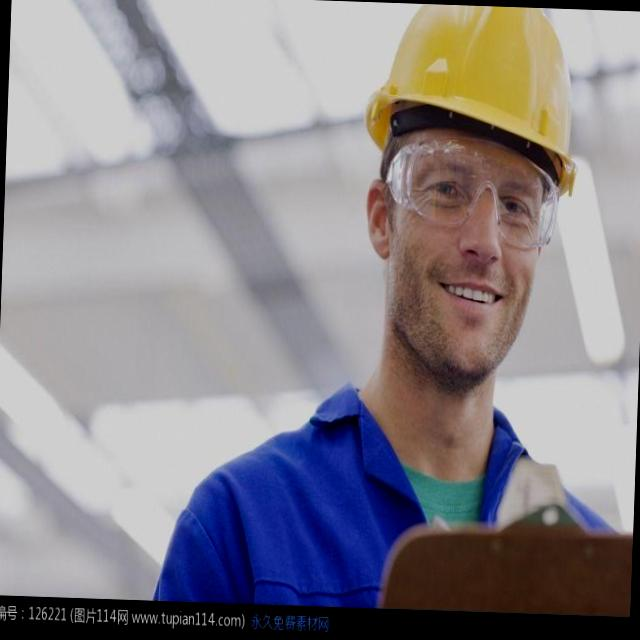goggles: (366, 117, 583, 267)
helmet: (352, 9, 609, 200)
no-vest: (163, 354, 638, 640)
